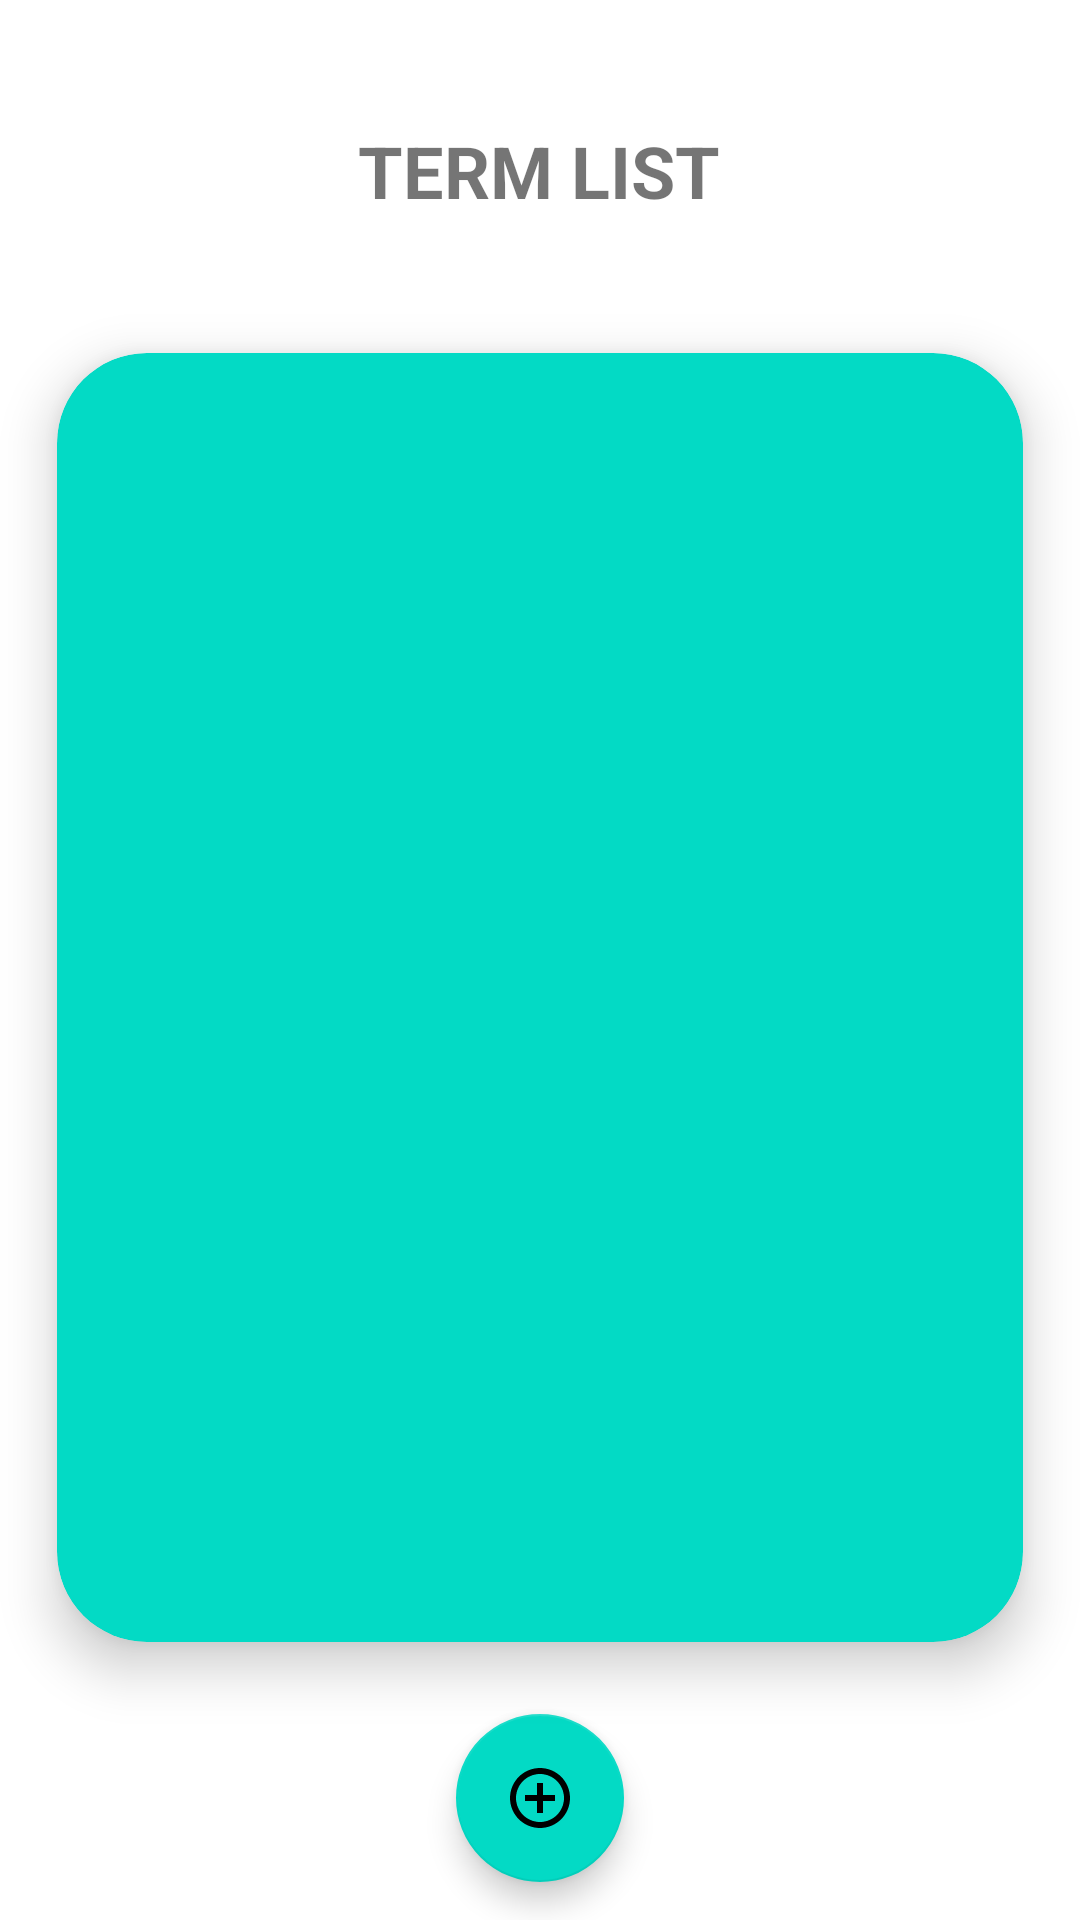

Screen size 1080w x 1920h. Icon name, then its center in pixels as (x,y):
add circle: (540,1798)
